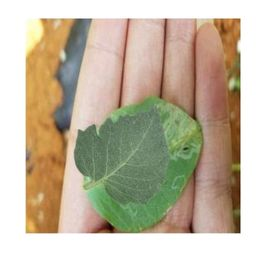liriomyza: (156, 100, 203, 162), (171, 173, 185, 192)
